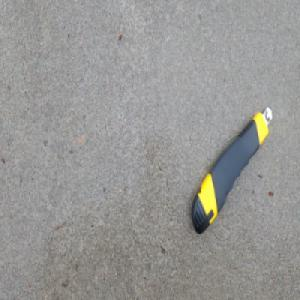Cutter: (190, 105, 273, 236)
